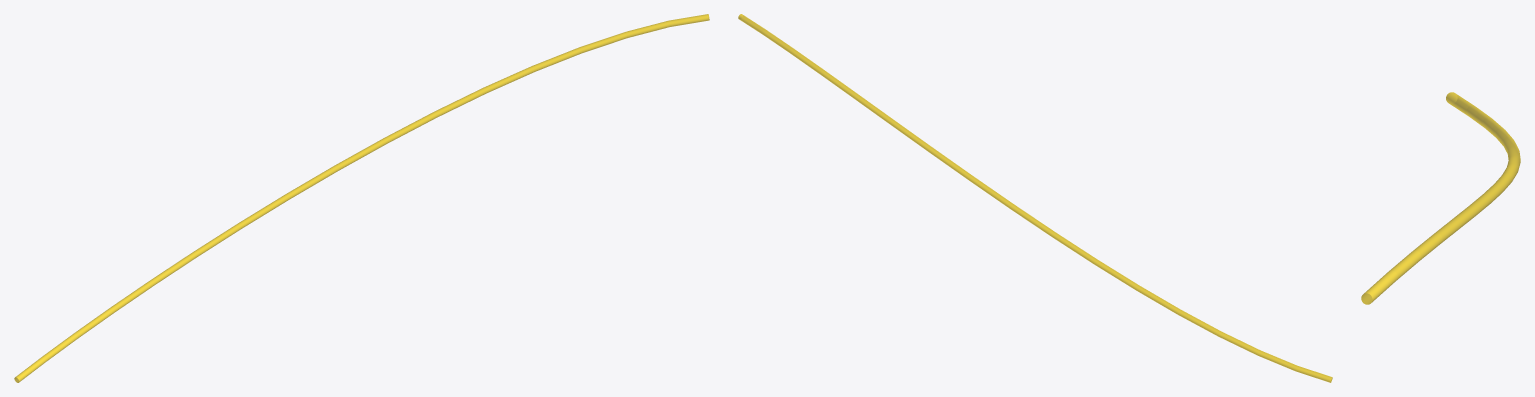
The model's file is Event_31209032_track_13.fbx.
The picture shows the model from 3 angles, left to right: view 1: azimuth 30°, elevation 25°; view 2: azimuth 150°, elevation 25°; view 3: azimuth 270°, elevation 25°; orthographic projection. The views are drawn at different scales.
Parts seen in each view (by area): view 1: Model; view 2: Model; view 3: Model.
Part boxes in pixels (box(x1,y1,x2,y2)): Model: box(14, 14, 709, 382); Model: box(738, 14, 1332, 382); Model: box(1361, 92, 1520, 304).
Size of the model in its own units: 4.67 by 1.48 by 0.5258.
